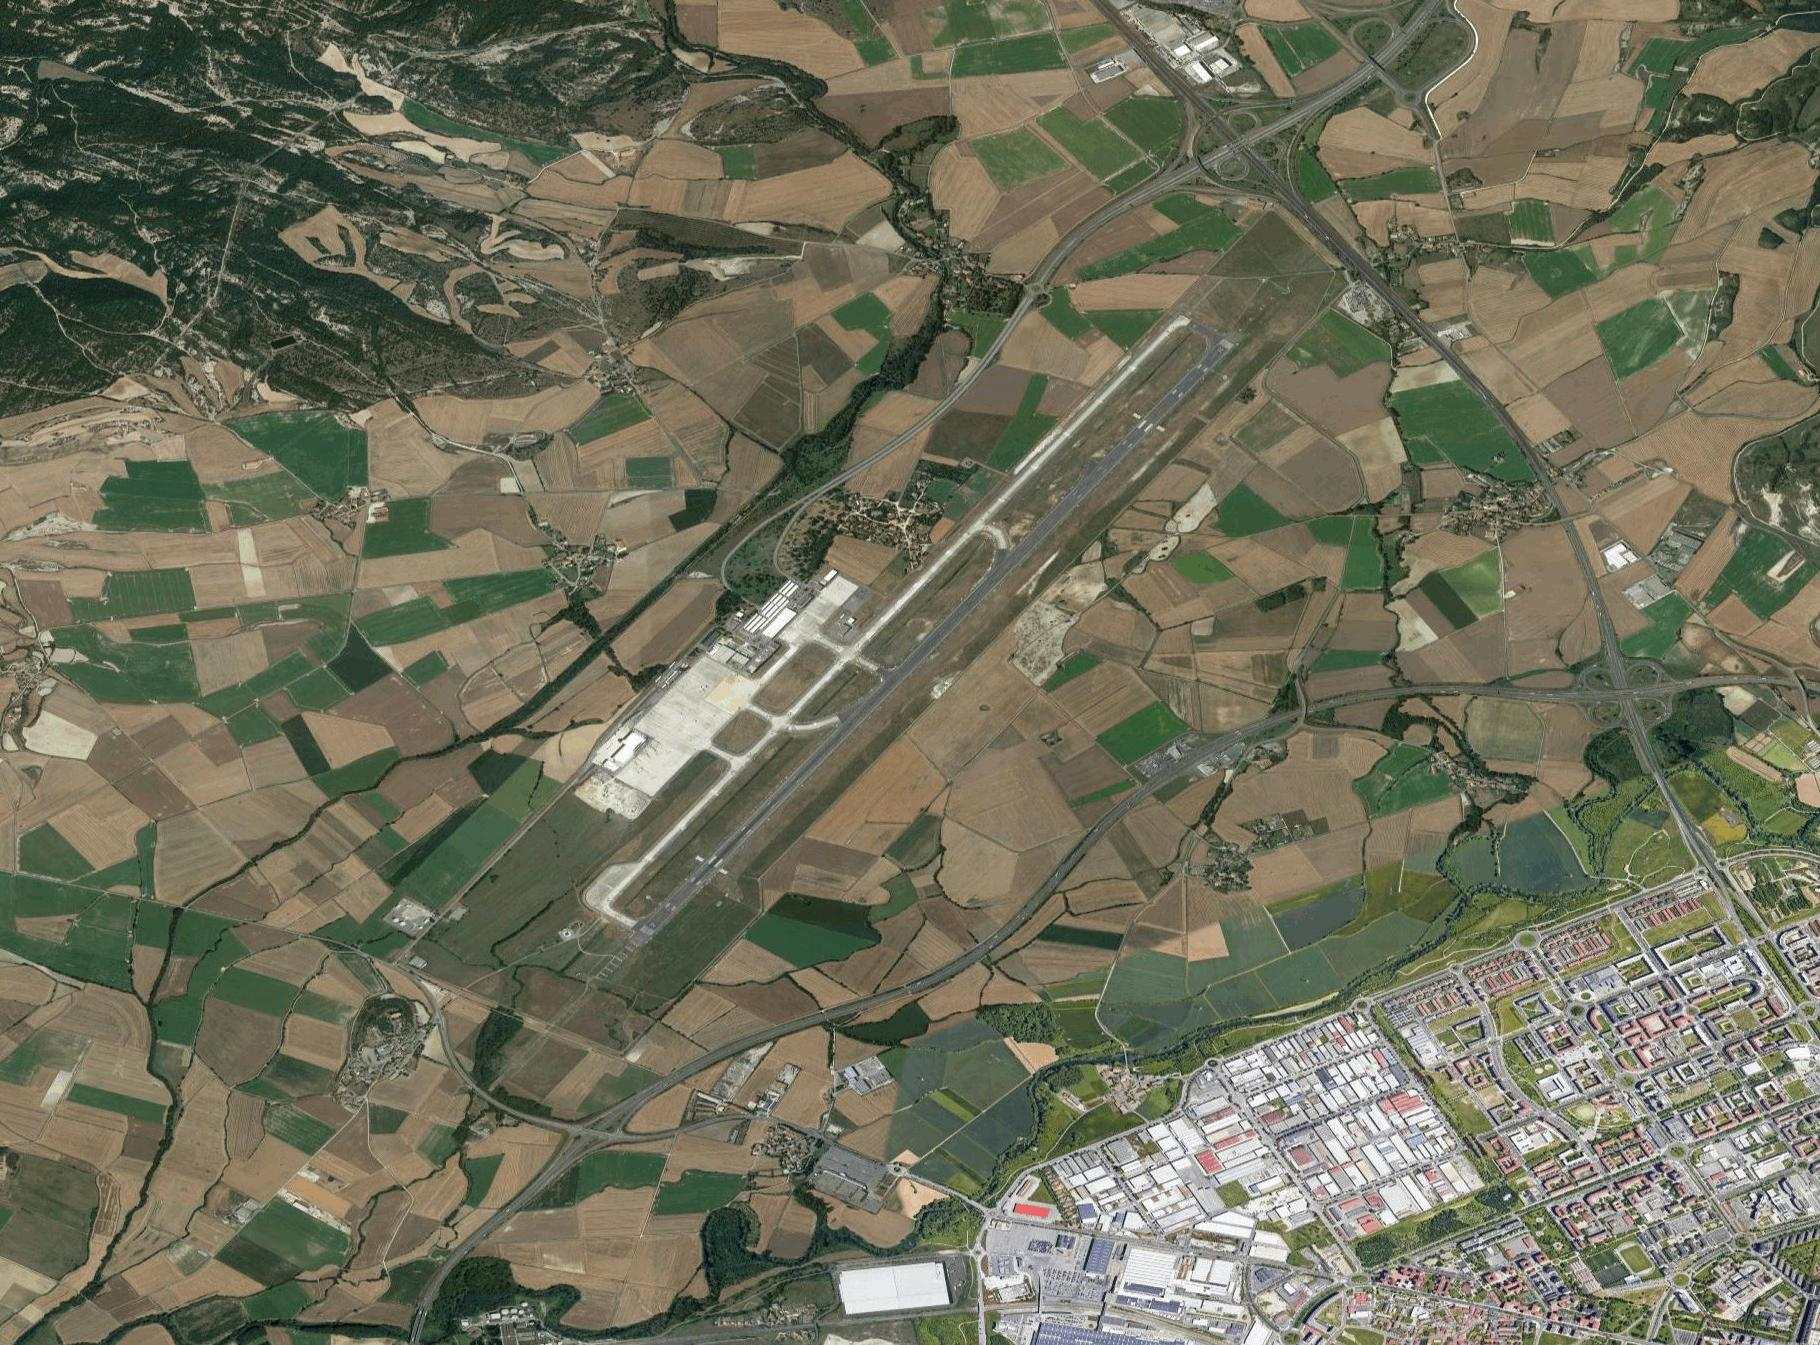airport: (572, 307, 1251, 954)
motorway: (495, 1096, 642, 1229), (1017, 780, 1153, 918), (829, 918, 1017, 1014), (1033, 172, 1180, 290), (1180, 82, 1306, 211), (1306, 1, 1444, 117), (1405, 315, 1527, 444), (642, 1014, 829, 1096), (1290, 199, 1407, 311), (1153, 708, 1303, 780), (413, 1221, 493, 1345), (1520, 432, 1590, 558), (1095, 1, 1195, 79), (1578, 554, 1626, 687), (1304, 685, 1471, 716), (1662, 670, 1820, 697), (1477, 682, 1660, 704)
